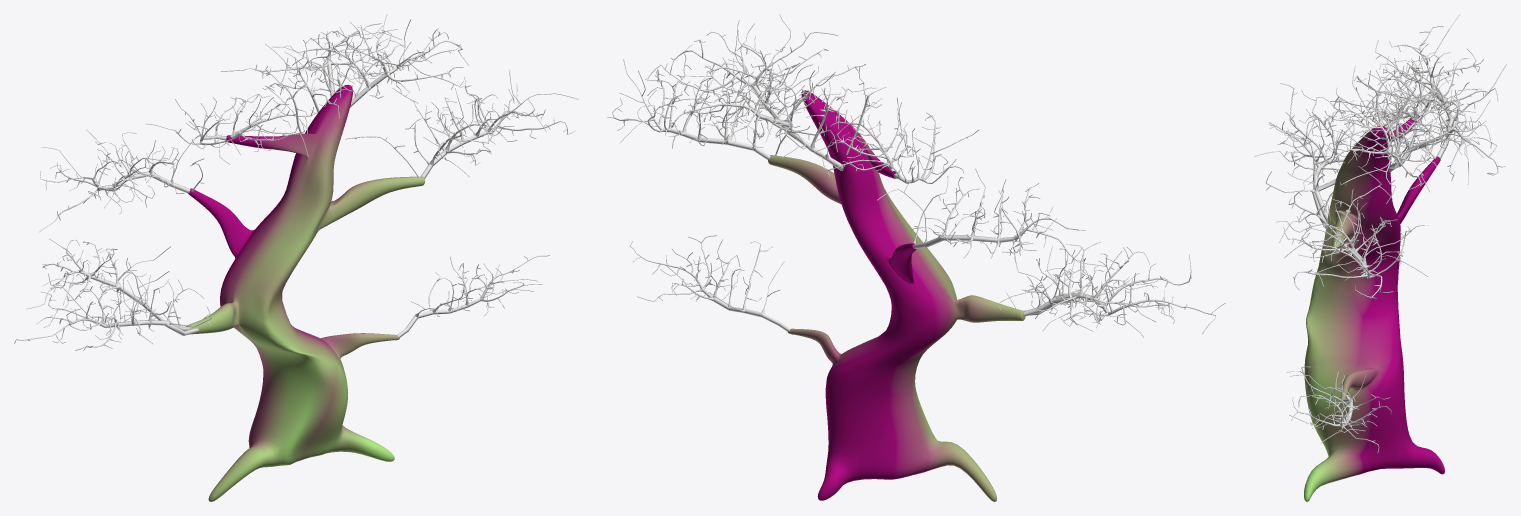
Rendered from core-v01.glb.
3 renders of one model, left to right at view 1: azimuth 30°, elevation 25°; view 2: azimuth 150°, elevation 25°; view 3: azimuth 270°, elevation 25°, orthographic. The views are drawn at different scales.
Parts seen in each view (by area): view 1: Continuous aged trunk and primary branches, Terminal twig hierarchy; view 2: Continuous aged trunk and primary branches, Terminal twig hierarchy; view 3: Continuous aged trunk and primary branches, Terminal twig hierarchy.
Boxes of the visible parts, x1,y1,x2,y2 form: Continuous aged trunk and primary branches: [186, 84, 424, 501]; Terminal twig hierarchy: [14, 14, 578, 350]; Continuous aged trunk and primary branches: [768, 90, 1025, 501]; Terminal twig hierarchy: [607, 14, 1225, 337]; Continuous aged trunk and primary branches: [1304, 114, 1444, 501]; Terminal twig hierarchy: [1254, 14, 1506, 453].
Bounding box in the file's own units: 2.71 × 1.92 × 1.01.
